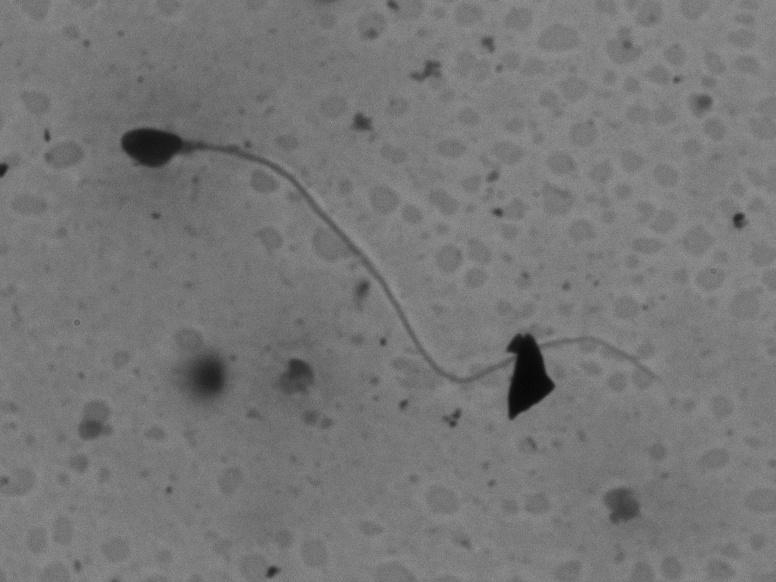Abnormal: (108, 111, 677, 413)
